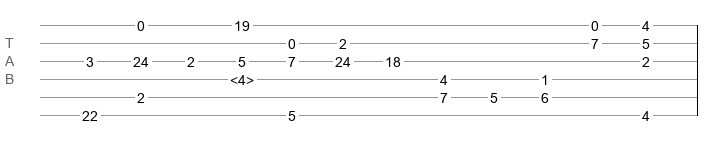0: (137, 18, 145, 28), (288, 36, 296, 46), (591, 18, 599, 28)
1: (541, 72, 549, 82)
18: (385, 54, 401, 64)
19: (234, 18, 250, 28)
2: (137, 90, 145, 100), (187, 54, 195, 64), (339, 36, 347, 46), (642, 54, 650, 64)
22: (82, 108, 98, 118)
24: (133, 54, 149, 64), (335, 54, 351, 64)
3: (86, 54, 94, 64)
4: (440, 72, 448, 82), (642, 108, 650, 118), (642, 18, 650, 28)
5: (238, 54, 246, 64), (288, 108, 296, 118), (490, 90, 498, 100), (642, 36, 650, 46)
6: (541, 90, 549, 100)
7: (288, 54, 296, 64), (440, 90, 448, 100), (591, 36, 599, 46)
harmonic: (230, 72, 254, 82)
